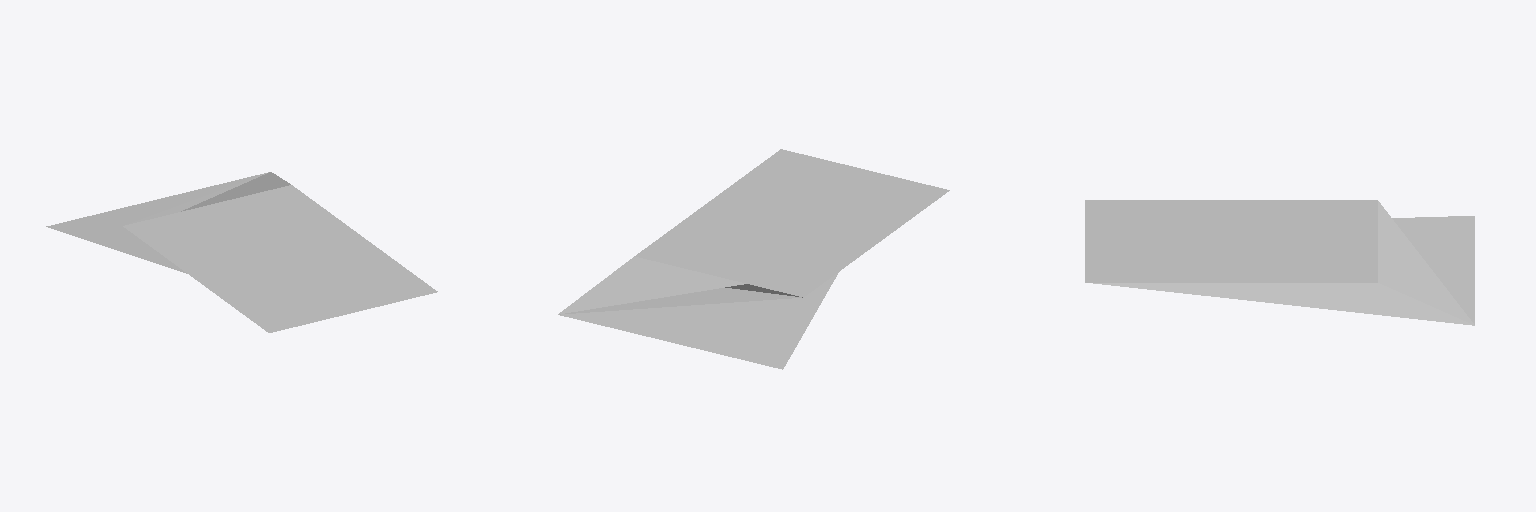
The model's file is PlayerAutoTurret.obj.
The picture shows the model from 3 angles: view 1: azimuth 30°, elevation 25°; view 2: azimuth 150°, elevation 25°; view 3: azimuth 270°, elevation 25°; orthographic projection.
Bounding box in the file's own units: 8 × 1 × 12.